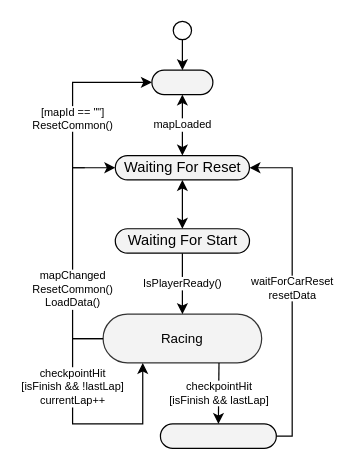
Image size: 354x470. Some labels were removed from this diagram. Each missing label, with the centre of its shape:
"Finished Race" belongs at point 217,435.
"Idle" belongs at point 182,82.
